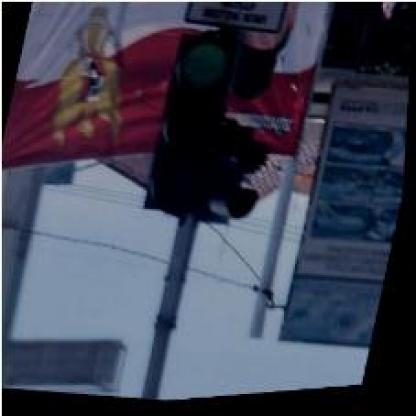green: (145, 31, 240, 222)
